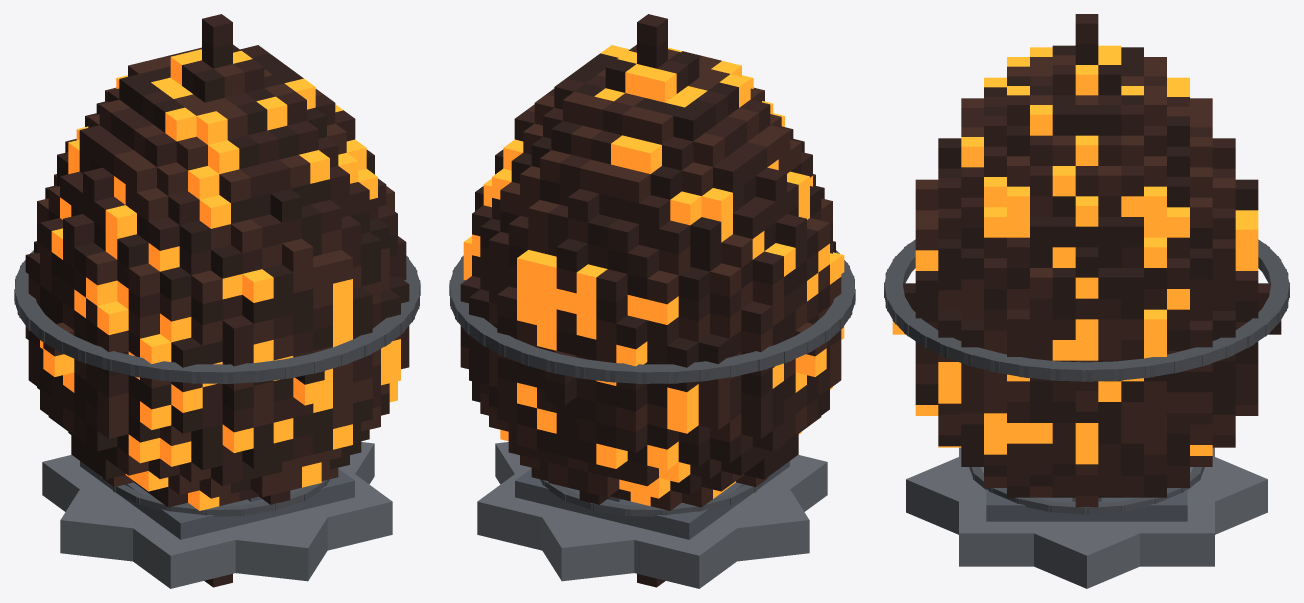
File: egg_pc_brasa.glb
The picture shows the model from 3 angles, left to right: view 1: azimuth 30°, elevation 25°; view 2: azimuth 150°, elevation 25°; view 3: azimuth 270°, elevation 25°; orthographic projection.
Visible parts, largest first — view 1: shell_geo, root_geo, egg_geo; view 2: shell_geo, root_geo, egg_geo; view 3: shell_geo, root_geo, egg_geo.
Part boxes in pixels (x1,y1,x2,y2): shell_geo: (25,14,409,587); root_geo: (42,442,392,588); egg_geo: (14,250,420,383); shell_geo: (460,14,844,587); root_geo: (477,442,827,588); egg_geo: (449,250,855,383); shell_geo: (892,14,1281,507); root_geo: (906,447,1267,588); egg_geo: (884,239,1289,381).
Bounding box in the file's own units: 4.44 × 6.75 × 4.44.
